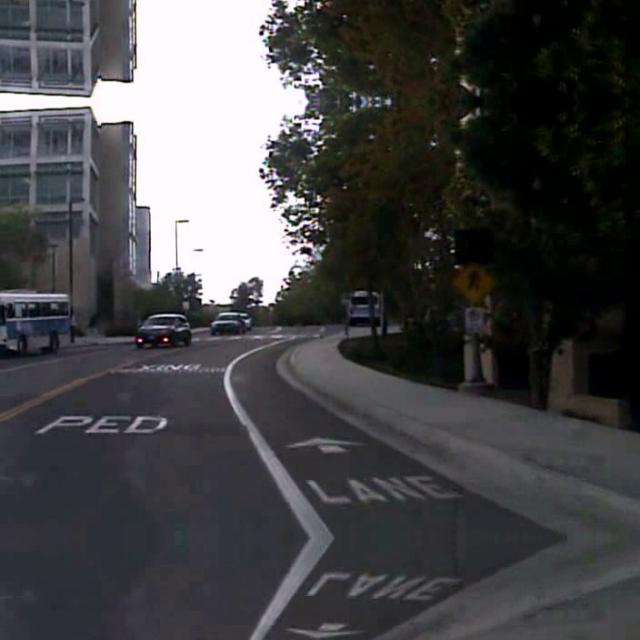pedestrianCrossing: (452, 258, 496, 304)
